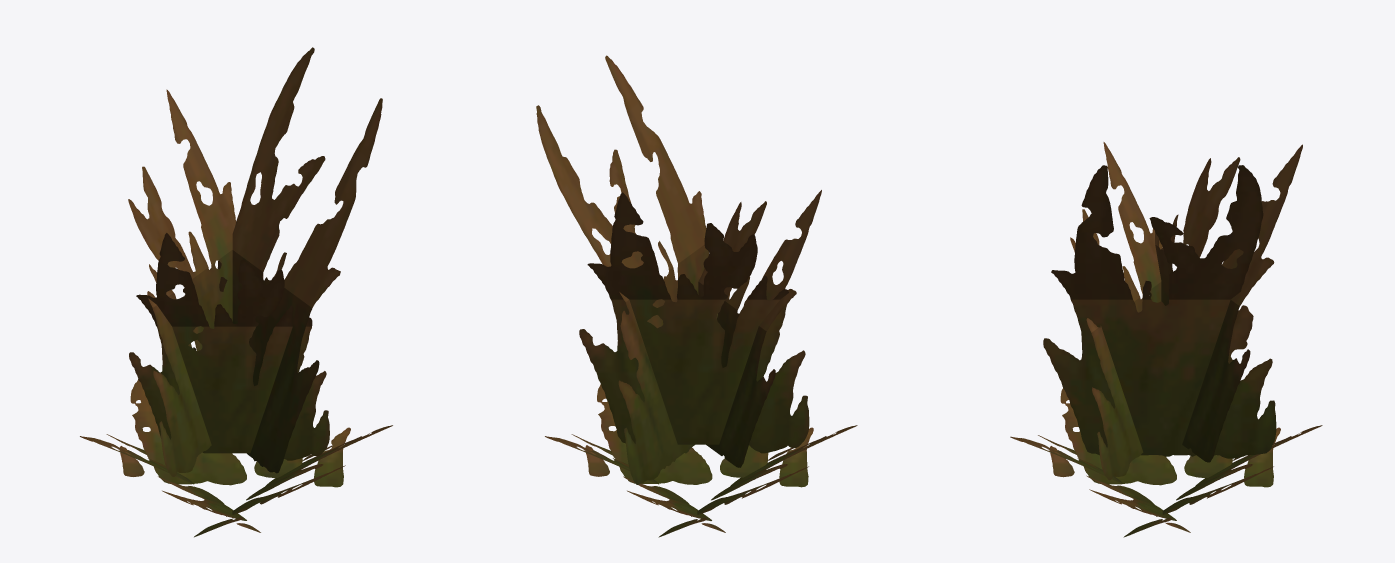
The model's file is grass_dead_05.fbx.
3 views of the same model, side by side, from view 1: azimuth 30°, elevation 25°; view 2: azimuth 150°, elevation 25°; view 3: azimuth 270°, elevation 25° (orthographic).
Parts seen in each view (by area): view 1: obj0.311; view 2: obj0.311; view 3: obj0.311.
Part boxes in pixels (left/top/right/bottom): obj0.311: left=80, top=47, right=392, bottom=537; obj0.311: left=536, top=55, right=857, bottom=537; obj0.311: left=1010, top=142, right=1322, bottom=537.
Size of the model in its own units: 1.43 by 1.72 by 1.65.
